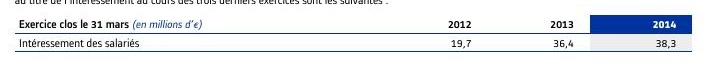table: (0, 0, 708, 68)
